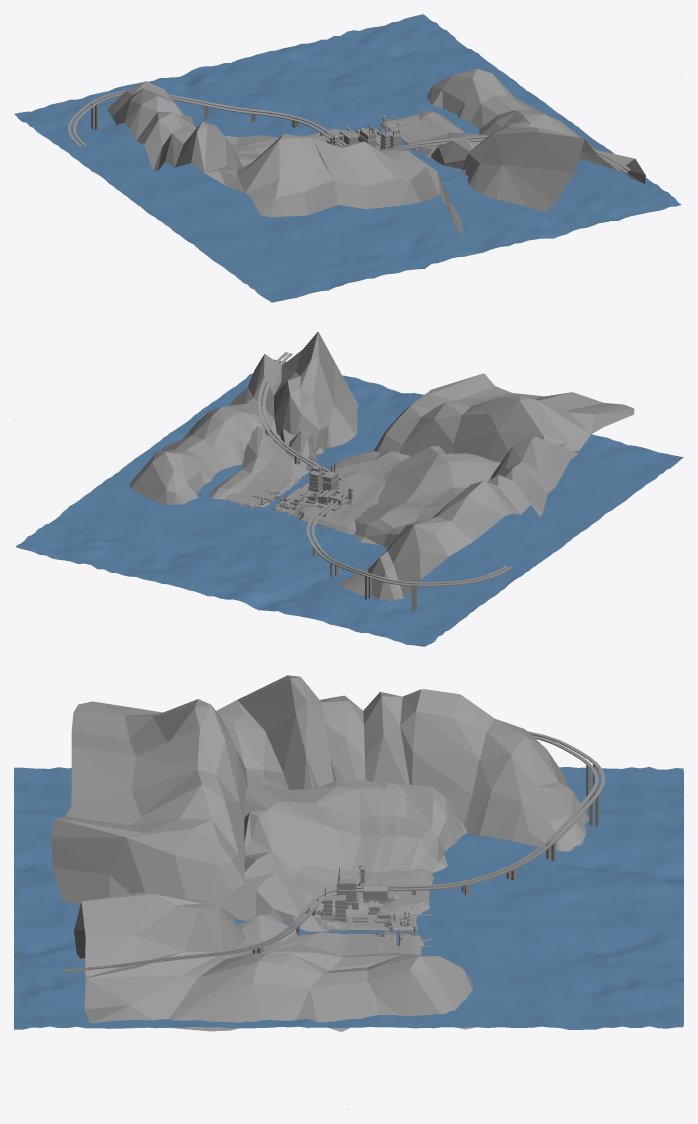
File: city2.fbx
The picture shows the model from 3 angles, top to bottom: view 1: azimuth 30°, elevation 25°; view 2: azimuth 150°, elevation 25°; view 3: azimuth 270°, elevation 25°; orthographic projection. The views are drawn at different scales.
Visible parts, largest first — view 1: water, Cube.003, Plane.002, Cube.004, Cube; view 2: water, Cube.003, Cube.004, Cube, Plane.002; view 3: Cube.003, water, Cube.004, Cube, Plane.002.
Part boxes in pixels (x1,y1,x2,y2): water: (14, 14, 681, 302); Cube.003: (107, 69, 645, 237); Plane.002: (68, 90, 630, 173); Cube.004: (224, 110, 488, 174); Cube: (304, 115, 453, 158); water: (16, 359, 683, 646); Cube.003: (129, 331, 634, 601); Cube.004: (210, 425, 500, 548); Cube: (225, 456, 386, 534); Plane.002: (257, 352, 512, 612); Cube.003: (50, 675, 589, 1031); water: (14, 767, 683, 1029); Cube.004: (220, 771, 466, 970); Cube: (294, 865, 434, 956); Plane.002: (61, 731, 605, 972).
Size of the model in its own units: 75714 by 16602 by 61535.
